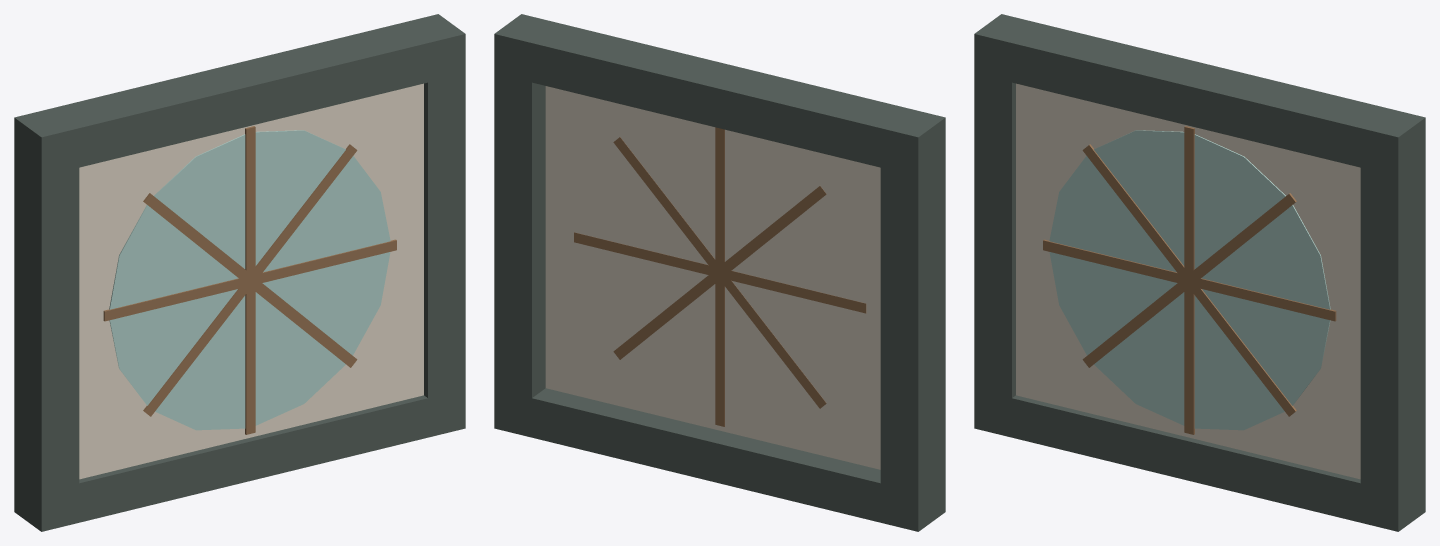
3 views of the same model, side by side, from view 1: azimuth 30°, elevation 25°; view 2: azimuth 150°, elevation 25°; view 3: azimuth 330°, elevation 25° (orthographic).
Visible parts, largest first — view 1: round-pane, backing, frame-top, frame-left, frame-bottom, frame-right, round-ray-0, round-ray-7, round-ray-1, round-ray-5, round-ray-2, round-ray-6 (+2 smaller); view 2: backing, frame-top, frame-bottom, frame-left, frame-right, round-ray-7, round-ray-6, round-ray-5, round-ray-0, round-ray-1, round-ray-4, round-ray-2 (+1 smaller); view 3: round-pane, backing, frame-top, frame-right, frame-bottom, frame-left, round-ray-4, round-ray-0, round-ray-3, round-ray-1, round-ray-2, round-ray-6 (+2 smaller).
Boxes of the visible parts, bbox=[...] form: round-pane: bbox=[109, 130, 390, 430]; backing: bbox=[79, 83, 423, 479]; frame-top: bbox=[14, 14, 465, 176]; frame-left: bbox=[14, 157, 79, 492]; frame-bottom: bbox=[14, 389, 465, 531]; frame-right: bbox=[424, 73, 465, 397]; round-ray-0: bbox=[245, 126, 255, 296]; round-ray-7: bbox=[143, 193, 263, 292]; round-ray-1: bbox=[238, 144, 357, 293]; round-ray-5: bbox=[143, 265, 263, 416]; round-ray-2: bbox=[236, 239, 396, 288]; round-ray-6: bbox=[103, 272, 264, 321]; backing: bbox=[545, 86, 880, 469]; frame-top: bbox=[494, 14, 945, 176]; frame-bottom: bbox=[494, 388, 945, 531]; frame-left: bbox=[880, 157, 945, 492]; frame-right: bbox=[494, 73, 545, 397]; round-ray-7: bbox=[707, 186, 826, 284]; round-ray-6: bbox=[706, 264, 866, 313]; round-ray-5: bbox=[707, 257, 826, 408]; round-ray-0: bbox=[715, 127, 724, 288]; round-ray-1: bbox=[613, 137, 732, 283]; round-ray-4: bbox=[715, 258, 724, 426]; round-ray-2: bbox=[574, 232, 705, 274]; round-pane: bbox=[1049, 130, 1330, 430]; backing: bbox=[1016, 83, 1360, 479]; frame-top: bbox=[974, 14, 1425, 176]; frame-right: bbox=[1360, 157, 1425, 492]; frame-bottom: bbox=[974, 389, 1425, 531]; frame-left: bbox=[974, 73, 1015, 397]; round-ray-4: bbox=[1184, 265, 1194, 434]; round-ray-0: bbox=[1184, 126, 1194, 296]; round-ray-3: bbox=[1176, 265, 1296, 416]; round-ray-1: bbox=[1176, 193, 1296, 292]; round-ray-2: bbox=[1175, 272, 1336, 321]; round-ray-6: bbox=[1043, 239, 1203, 288].
Bounding box in the file's own units: 0.9 × 0.8 × 0.1.
